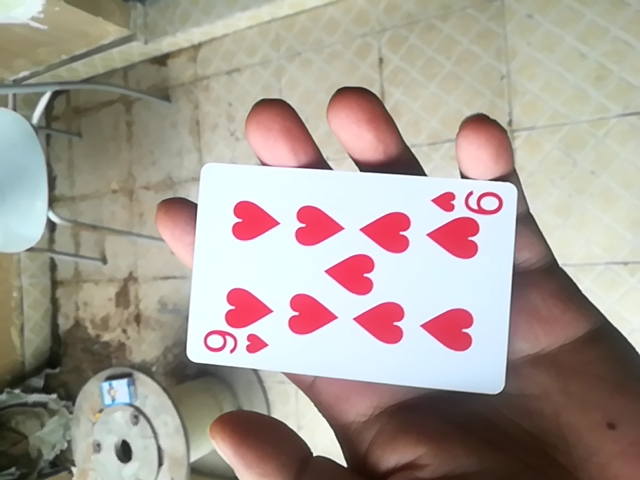hx 9: (178, 161, 521, 395)
